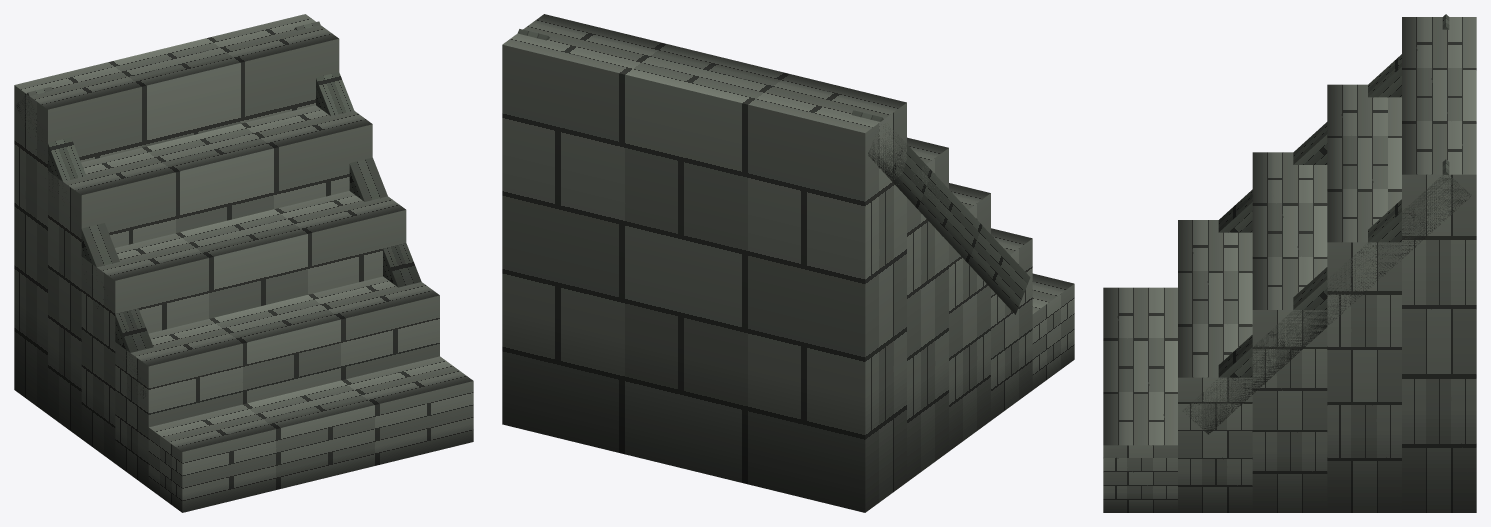
The model's file is stairs.gltf.
3 renders of one model, left to right at view 1: azimuth 30°, elevation 25°; view 2: azimuth 150°, elevation 25°; view 3: azimuth 270°, elevation 25°, orthographic. The views are drawn at different scales.
Parts seen in each view (by area): view 1: stairs; view 2: stairs; view 3: stairs.
Part boxes in pixels (x1,y1,x2,y2): stairs: [14, 14, 473, 512]; stairs: [502, 14, 1074, 512]; stairs: [1103, 14, 1476, 512].
Size of the model in its own units: 1 by 1.01 by 1.
1 material, 1 textured.
